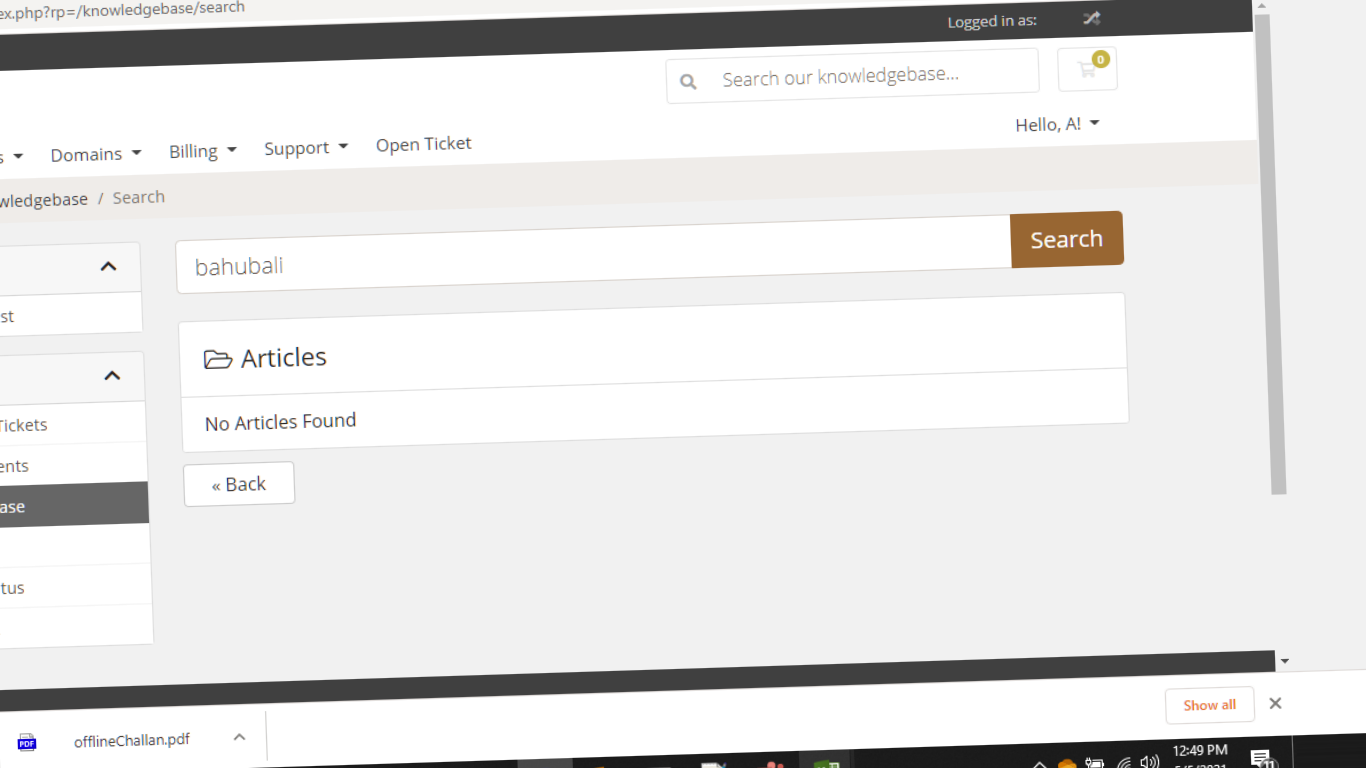backbutton: (185, 459, 298, 505)
noresultsfound: (193, 407, 586, 456)
profileicon: (1004, 112, 1116, 141)
searchicon: (667, 66, 709, 105)
searchtextbox: (664, 48, 1046, 103)
